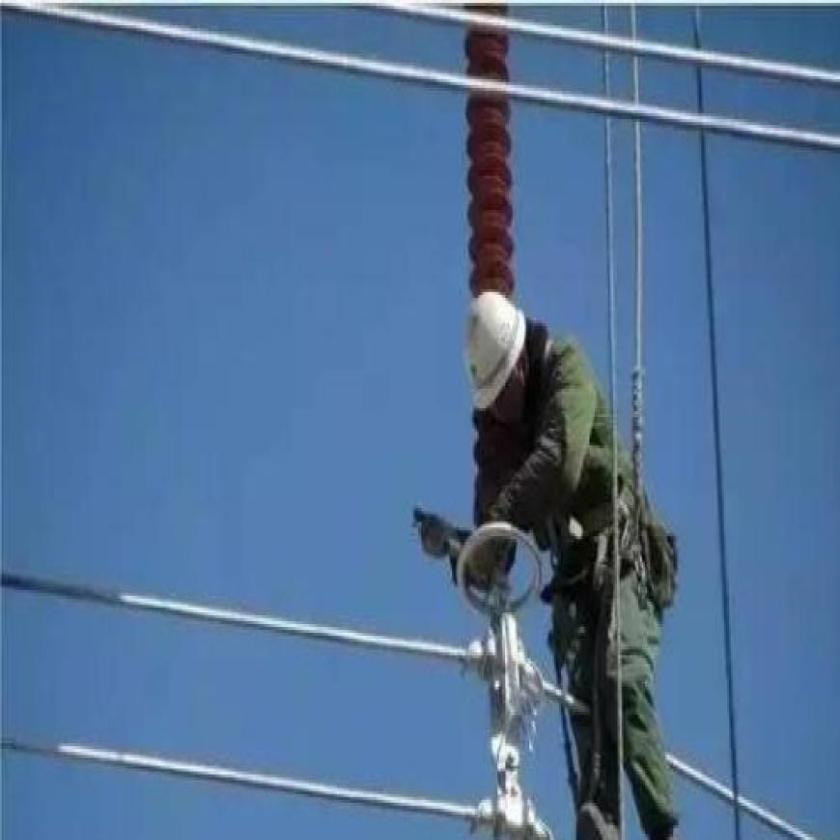Con_casco: (449, 276, 538, 453)
